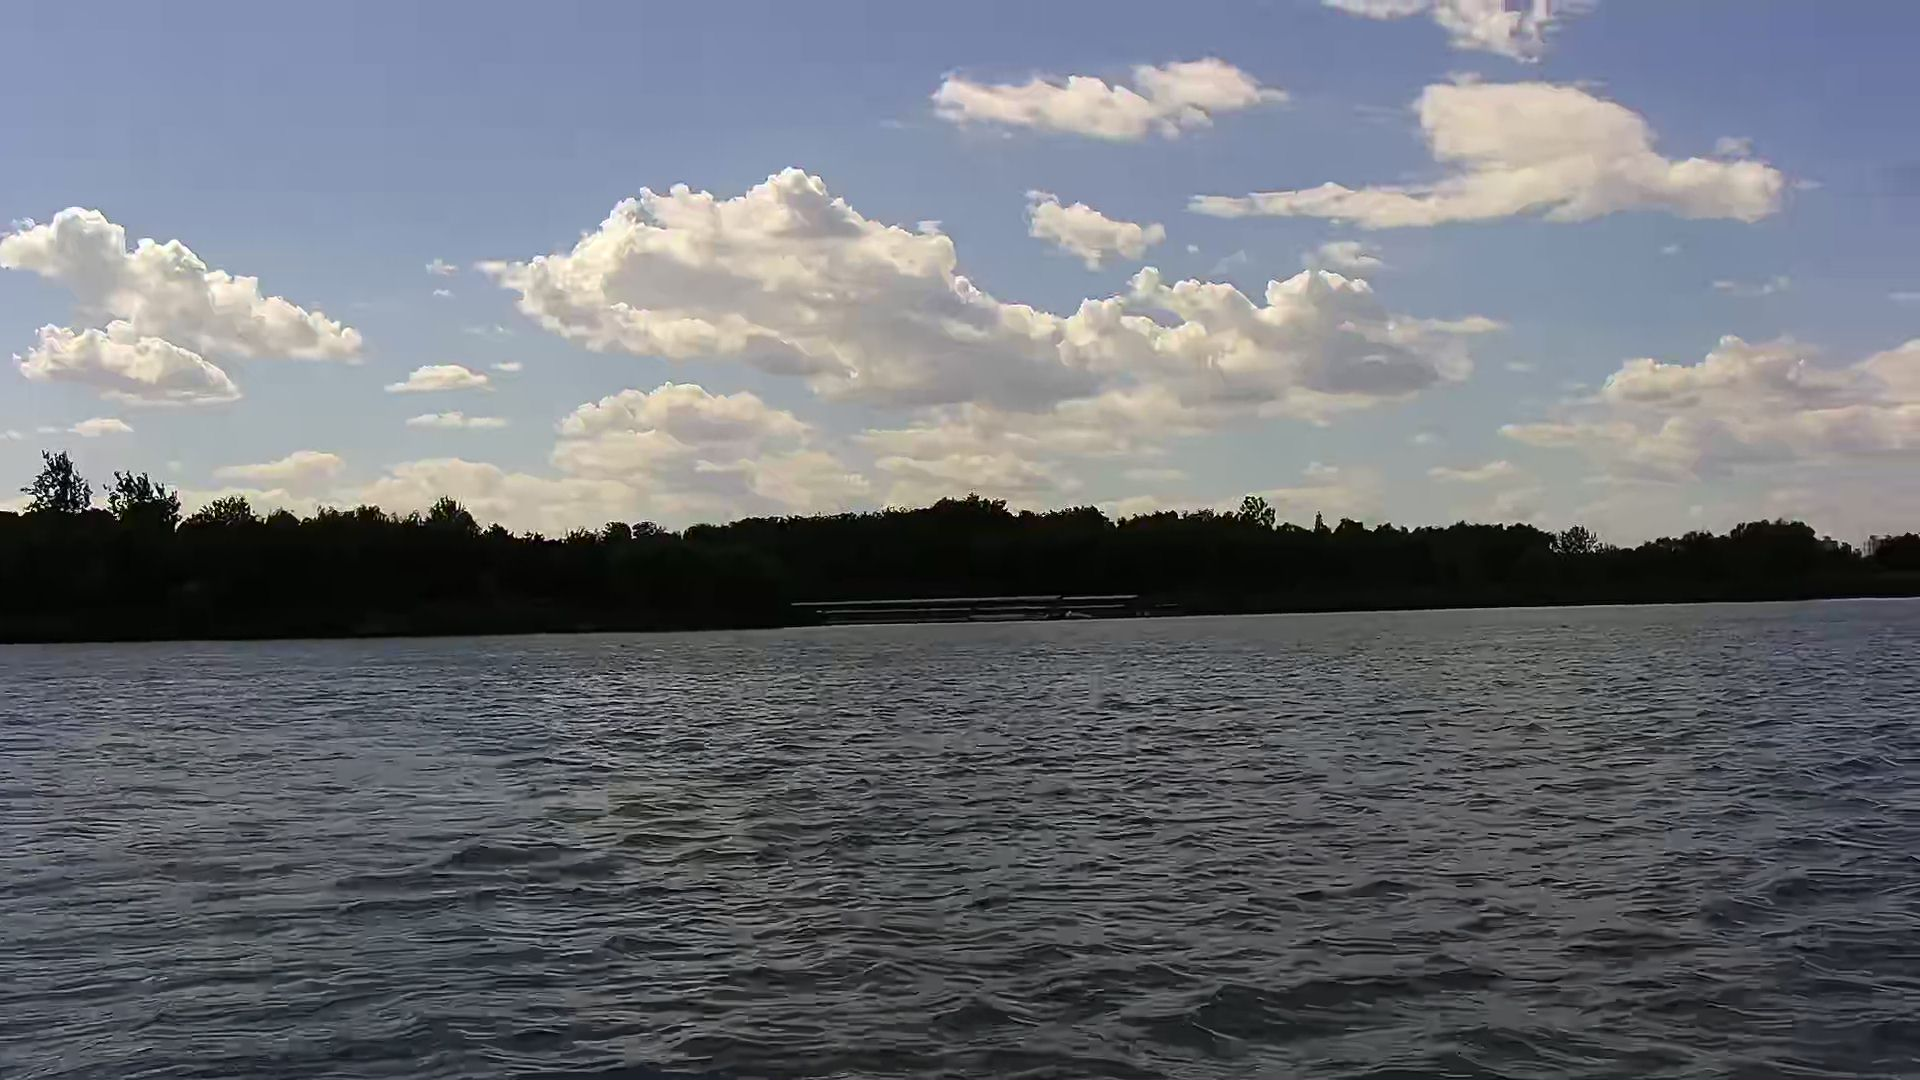bridge: (796, 599, 1133, 622)
